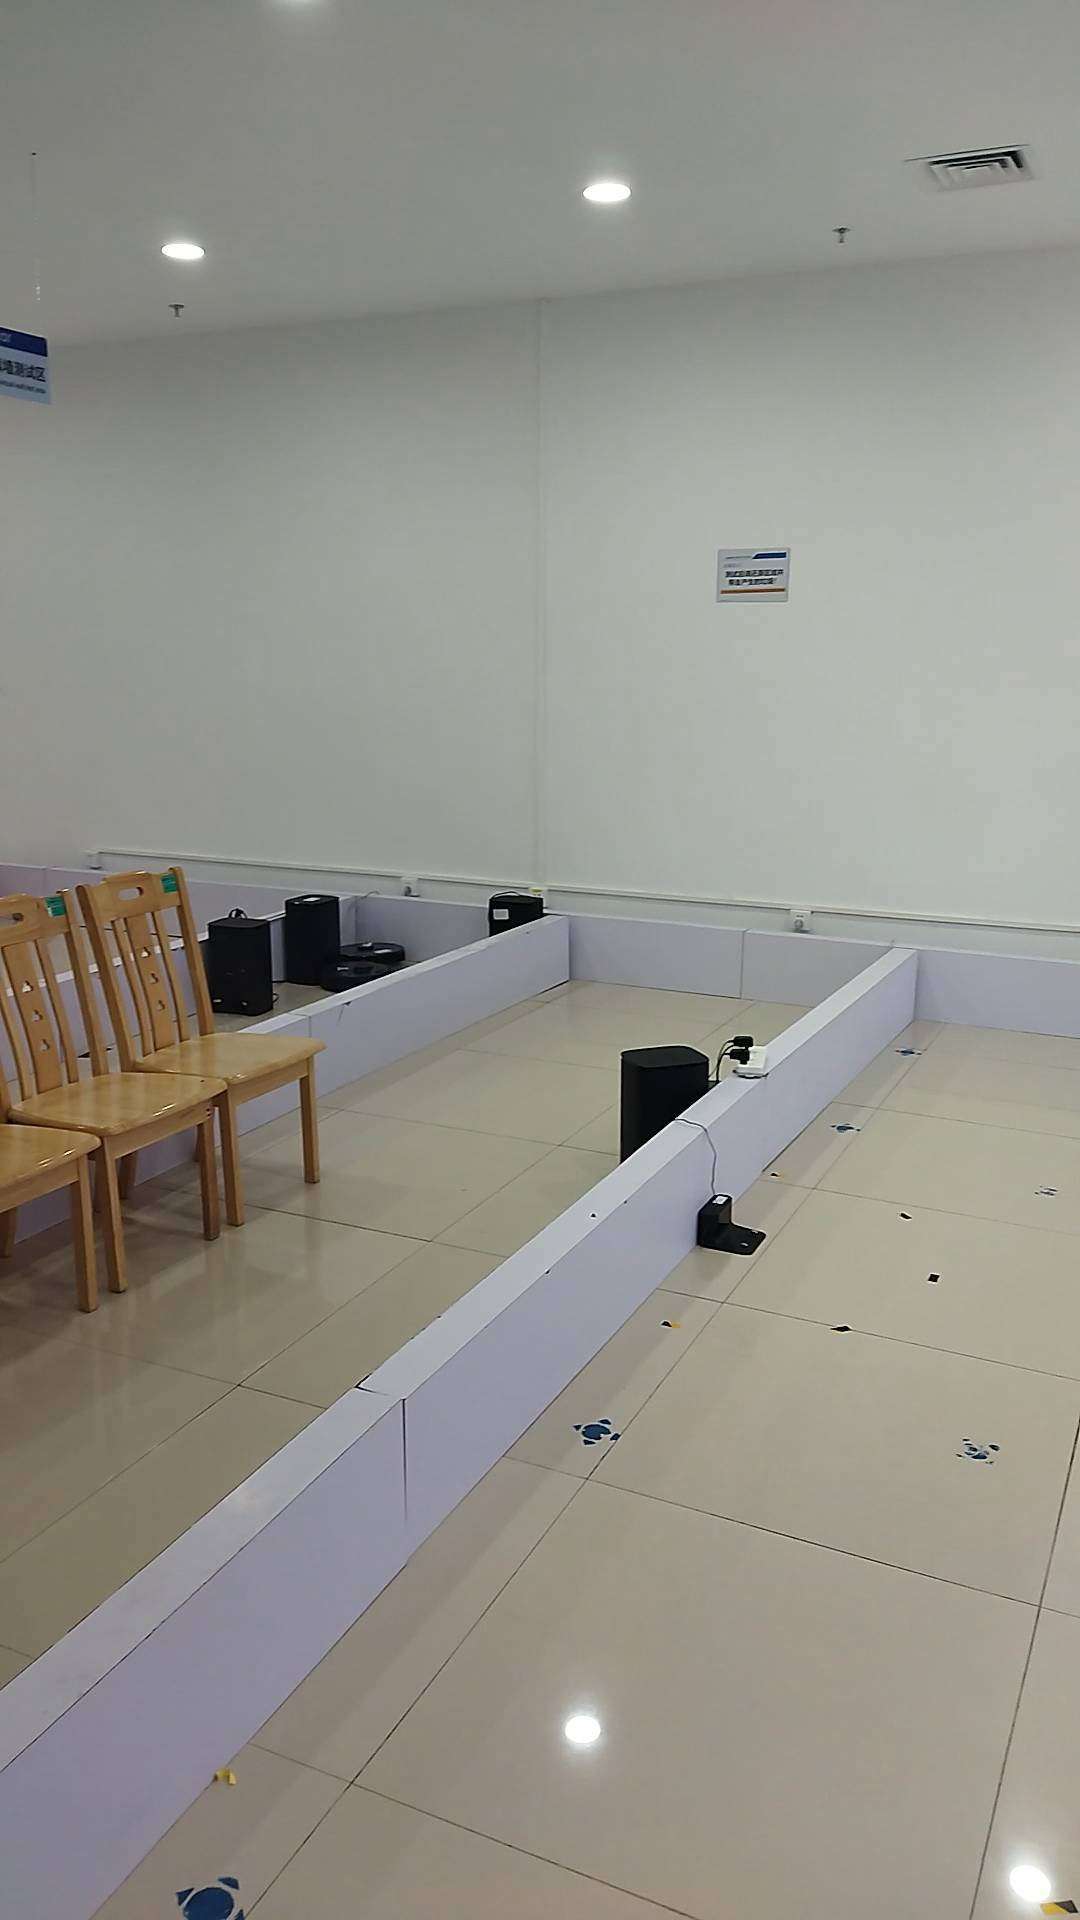dust collecting barrel: (618, 1047, 705, 1159), (207, 913, 280, 1021), (282, 890, 345, 978)
recharge seat: (700, 1197, 770, 1263)
